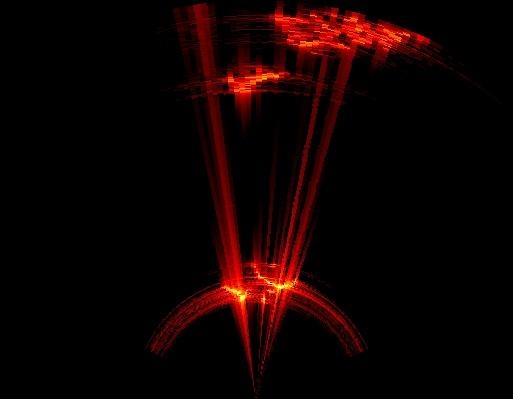shipwreck: (272, 9, 429, 51), (222, 66, 283, 97), (256, 272, 296, 292), (223, 286, 255, 302), (257, 295, 264, 303)
